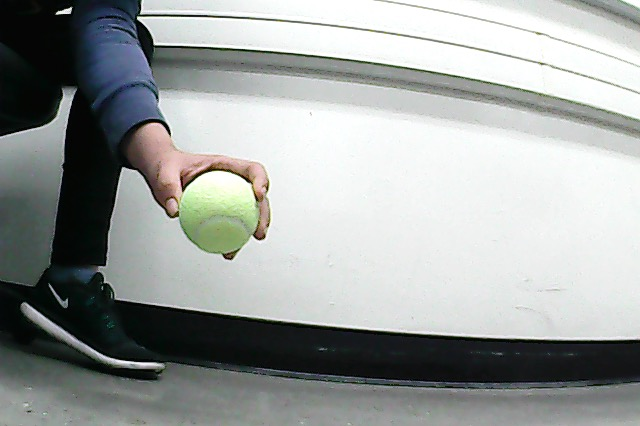ball: (175, 169, 267, 257)
